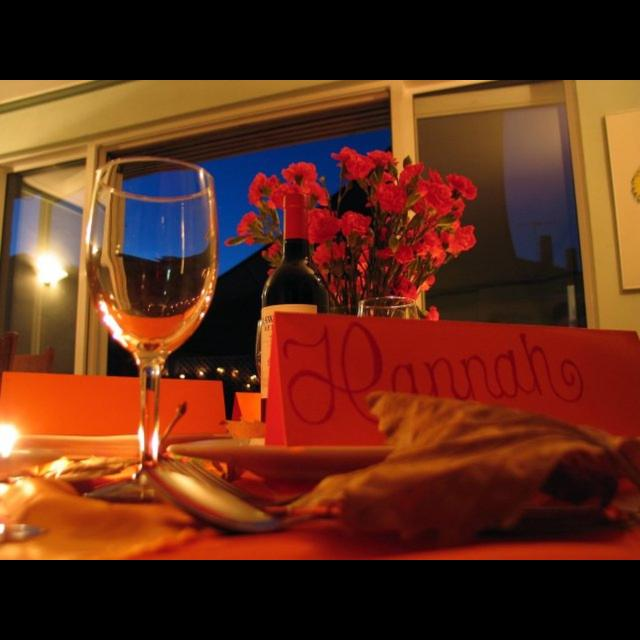Flower: (239, 146, 477, 302), (279, 161, 315, 199)
